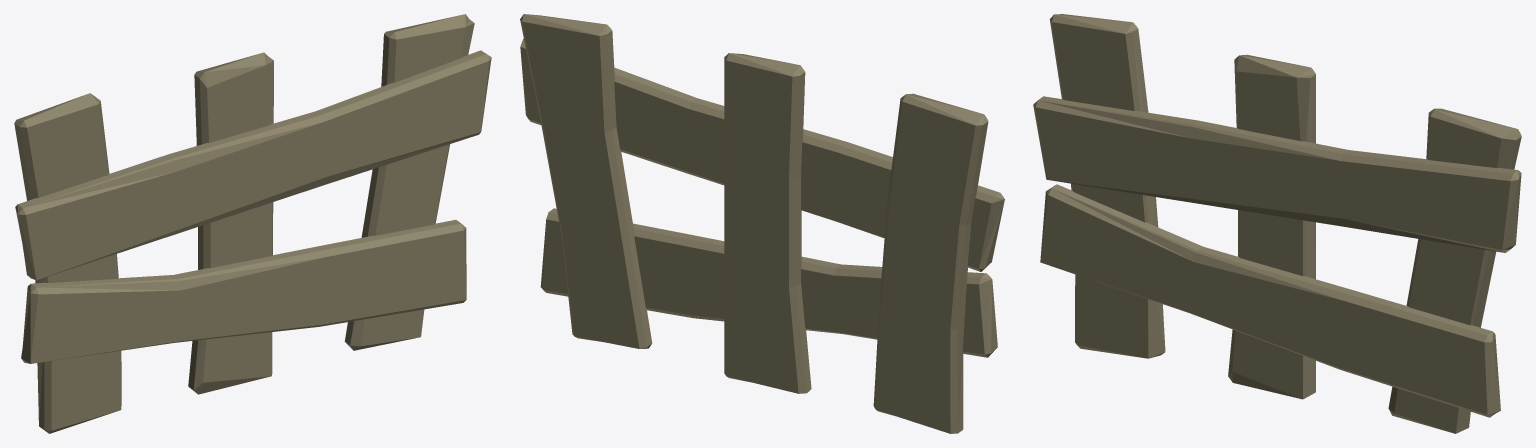
File: fence_2.FBX
The picture shows the model from 3 angles, left to right: view 1: azimuth 30°, elevation 25°; view 2: azimuth 150°, elevation 25°; view 3: azimuth 330°, elevation 25°; orthographic projection. The views are drawn at different scales.
Visible parts, largest first — view 1: Box003; view 2: Box003; view 3: Box003.
Part boxes in pixels (box(x1,y1,x2,y2)): Box003: box(14, 14, 491, 433); Box003: box(520, 14, 1004, 433); Box003: box(1033, 14, 1521, 433).
Size of the model in its own units: 20.05 by 13.18 by 1.33.
